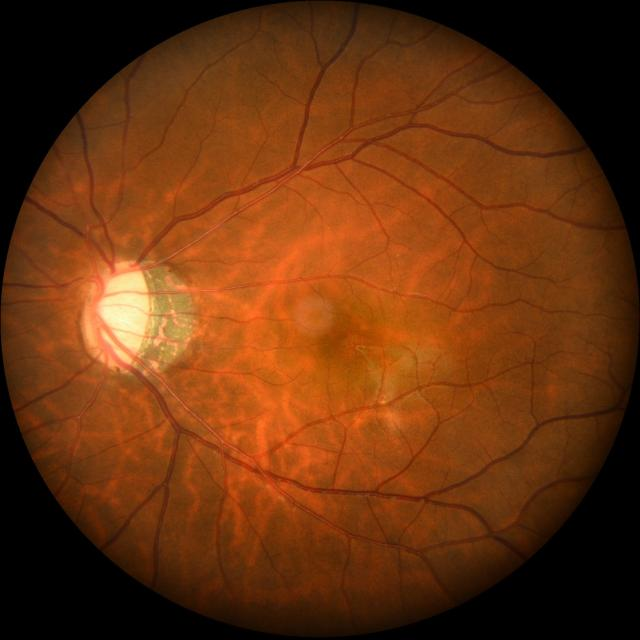OC: (96, 272, 147, 360)
OD: (82, 258, 152, 370)
